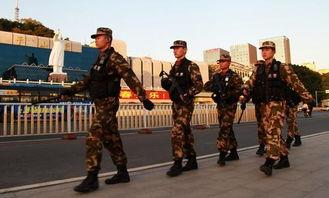up: (54, 24, 157, 194), (235, 32, 315, 180), (151, 36, 205, 179), (202, 48, 246, 171)
